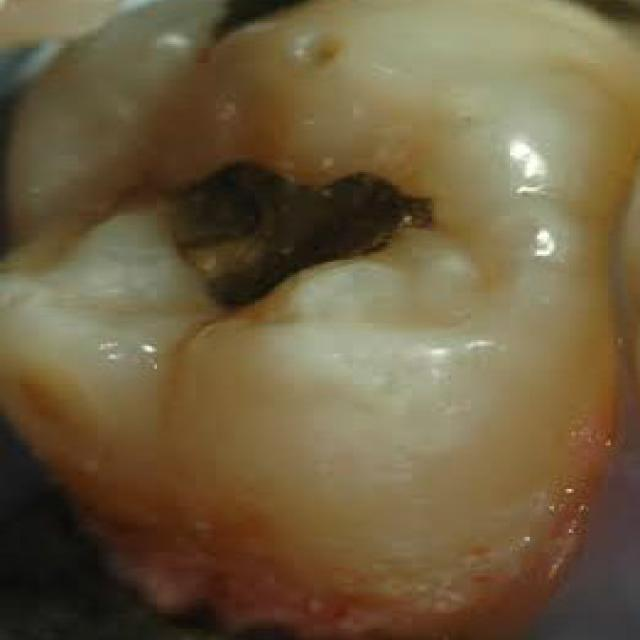Carrier: (128, 138, 464, 326)
